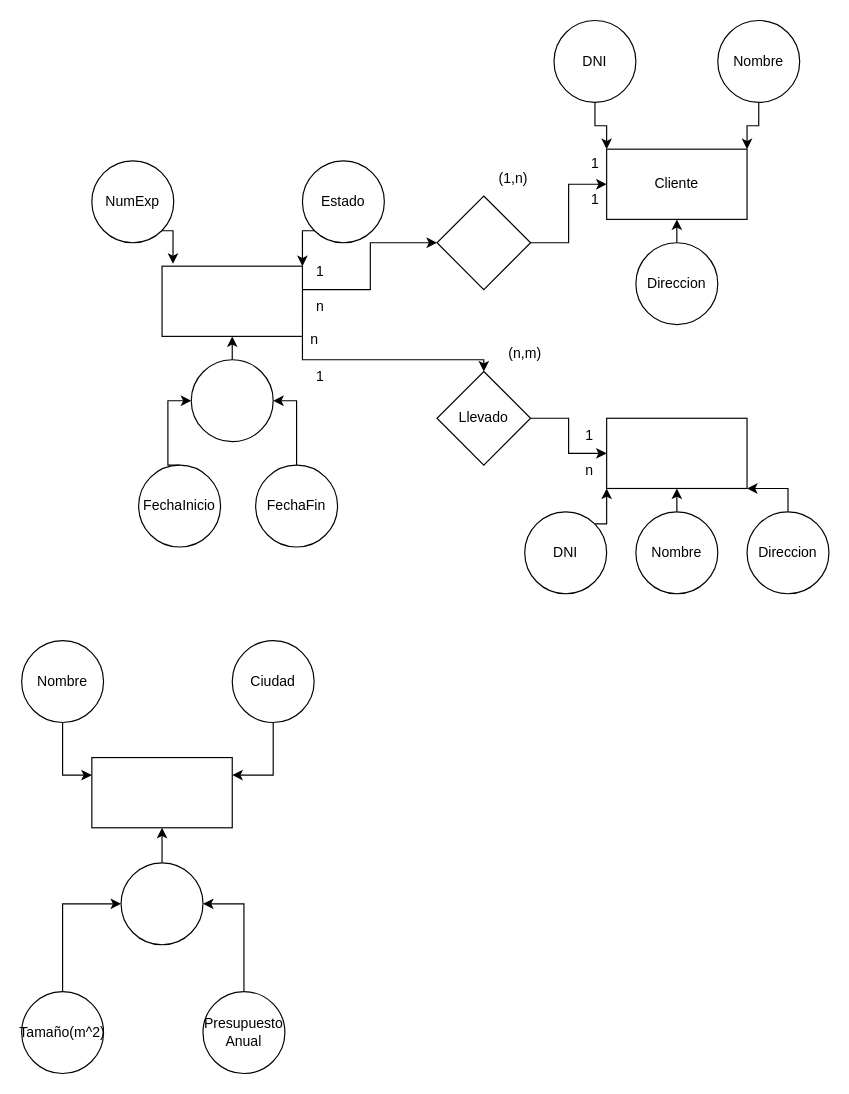
The diagram is 849 pixels wide and 1094 high, and some of its shapes have lost their labels. The shapes that lost their labels are listed below. From the top down, each one's box as (x1, y1, x2, y2) in pixels, then its label:
(436, 195, 531, 290): Pertenece
(161, 265, 302, 336): Asunto
(190, 359, 273, 442): Periodo
(605, 417, 747, 488): Procurador
(120, 862, 203, 945): País
